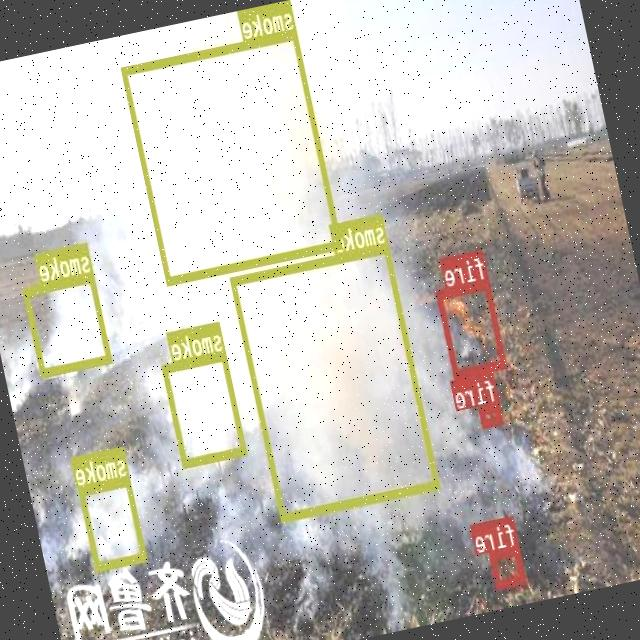fire: (436, 278, 507, 376), (490, 544, 528, 586), (478, 400, 504, 426)
smoke: (230, 242, 440, 520), (121, 28, 343, 284), (163, 351, 248, 466), (23, 272, 112, 375), (78, 475, 148, 569)
